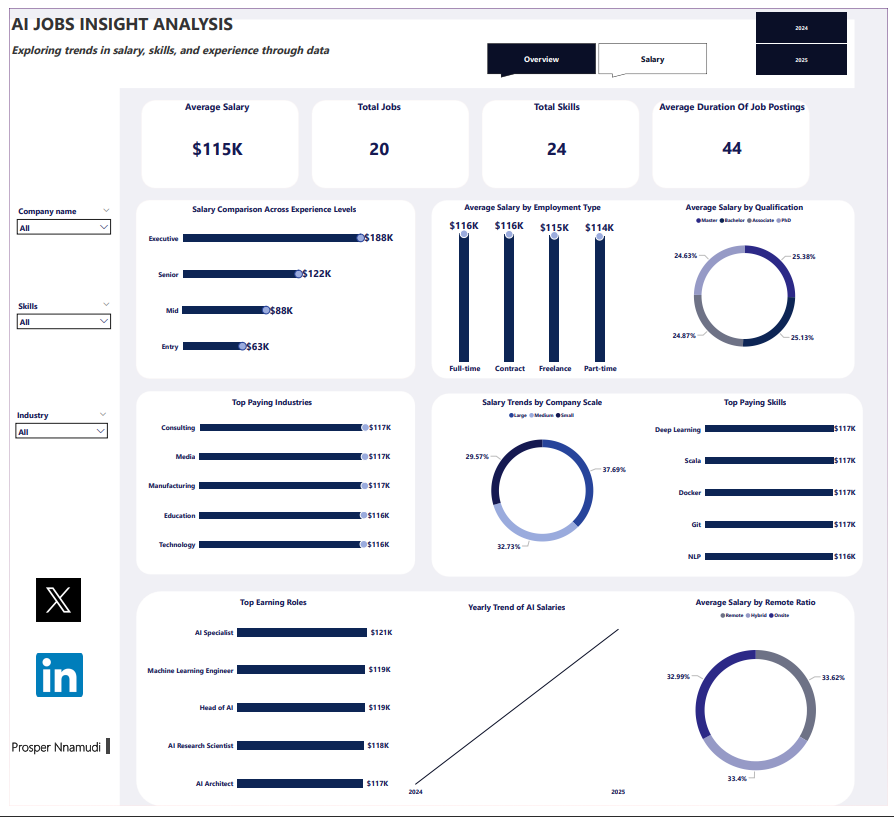

The dashboard page shown, as its layout file describes it:
{"tool":"powerbi","page":{"name":"Salary","canvas":[1920,1743],"ordinal":1},"visuals":[{"type":"clusteredBarChart","title":"Salary Comparison Across Experience Levels","fields":{"Category":["ai_job_dataset.experience_level"],"Y":["Avg(ai_job_dataset.salary_usd)"]},"box":[298,425.5,562.7,360.8],"z":0},{"type":"columnChart","title":"Average Salary by Employment Type","fields":{"Category":["ai_job_dataset.employment_type"],"Y":["Avg(ai_job_dataset.salary_usd)"]},"box":[938.6,421.1,410.5,387.7],"z":1000},{"type":"donutChart","title":"Salary Trends by Company Scale","fields":{"Y":["Avg(ai_job_dataset.salary_usd)"],"Category":["ai_job_dataset.company_size"]},"box":[940,846.7,450,363.3],"z":2000},{"type":"pieChart","title":"Average Salary by Qualification","fields":{"Category":["ai_job_dataset.education_required"],"Y":["Avg(ai_job_dataset.salary_usd)"]},"box":[1390.6,420.8,432.1,364.2],"z":3000},{"type":"clusteredBarChart","title":"Top Paying Industries ","fields":{"Y":["Avg(ai_job_dataset.salary_usd)"],"Category":["ai_job_dataset.industry"]},"box":[298.1,847.2,552.8,364.2],"z":4000},{"type":"barChart","title":"Top Paying Skills","fields":{"Y":["Avg(ai_job_dataset.salary_usd)"],"Category":["ai_job_dataset.required_skills"]},"box":[1405.9,847.1,449,394.1],"z":5000},{"type":"clusteredBarChart","title":"Top Earning Roles","fields":{"Y":["Avg(ai_job_dataset.salary_usd)"],"Category":["ai_job_dataset.job_title"]},"box":[296.3,1285.2,563,459.3],"z":6000},{"type":"lineChart","title":"Yearly Trend of AI Salaries","fields":{"Y":["Avg(ai_job_dataset.salary_usd)"],"Category":["DateTable.Year","DateTable.Month Name","DateTable.Quarter"]},"box":[866.7,1296.3,485.2,437],"z":7000},{"type":"donutChart","title":"Average Salary by Remote Ratio","fields":{"Y":["Avg(ai_job_dataset.salary_usd)"],"Category":["ai_job_dataset.work type"]},"box":[1407.4,1285.2,448.1,448.1],"z":8000},{"type":"pageNavigator","box":[1045,75,480,75],"z":9000},{"type":"slicer","fields":{"Values":["DateTable.Year"]},"box":[1606.9,0,248.3,151.7],"z":10000},{"type":"image","box":[35,1240,145,105],"z":11000},{"type":"image","box":[55,1400,110,115],"z":12000},{"type":"textbox","box":[0,1590,225,45],"z":13000},{"type":"textbox","box":[0,0,960,150],"z":14000},{"type":"slicer","fields":{"Values":["ai_job_dataset.company_name"]},"box":[7.1,425,225,89.3],"z":15000},{"type":"slicer","fields":{"Values":["ai_job_dataset.required_skills"]},"box":[7.1,632.1,225,89.3],"z":16000},{"type":"slicer","fields":{"Values":["ai_job_dataset.industry"]},"box":[3.6,871.4,221.4,89.3],"z":17000},{"type":"card","title":"Average Salary","fields":{"Values":["Avg(ai_job_dataset.salary_usd)"]},"box":[296.9,200,315.6,181.2],"z":18000},{"type":"card","title":"Total Jobs","fields":{"Values":["measures (2).total job titles"]},"box":[659.4,200,300,181.2],"z":19000},{"type":"card","title":"Total Skills","fields":{"Values":["measures (2).total job skills"]},"box":[1046.9,200,300,181.2],"z":20000},{"type":"card","title":"Average Duration Of Job Postings","fields":{"Values":["Avg(ai_job_dataset.duration w)"]},"box":[1406.7,200,346.7,180],"z":21000}]}

Visuals, with their boxes in screenshot pixels (x1, y1, x2, y2), scaled from the page's 1920x1743 canvas onto the 894x817 screenshot:
"Salary Comparison Across Experience Levels" clusteredBarChart: locate(139, 199, 401, 369)
"Average Salary by Employment Type" columnChart: locate(437, 197, 628, 379)
"Salary Trends by Company Scale" donutChart: locate(438, 397, 647, 567)
"Average Salary by Qualification" pieChart: locate(647, 197, 849, 368)
"Top Paying Industries " clusteredBarChart: locate(139, 397, 396, 568)
"Top Paying Skills" barChart: locate(655, 397, 864, 582)
"Top Earning Roles" clusteredBarChart: locate(138, 602, 400, 816)
"Yearly Trend of AI Salaries" lineChart: locate(404, 608, 629, 812)
"Average Salary by Remote Ratio" donutChart: locate(655, 602, 864, 812)
pageNavigator: locate(487, 35, 710, 70)
slicer - DateTable.Year: locate(748, 0, 864, 71)
image: locate(16, 581, 84, 630)
image: locate(26, 656, 77, 710)
textbox: locate(0, 745, 105, 766)
textbox: locate(0, 0, 447, 70)
slicer - ai_job_dataset.company_name: locate(3, 199, 108, 241)
slicer - ai_job_dataset.required_skills: locate(3, 296, 108, 338)
slicer - ai_job_dataset.industry: locate(2, 408, 105, 450)
"Average Salary" card: locate(138, 94, 285, 179)
"Total Jobs" card: locate(307, 94, 447, 179)
"Total Skills" card: locate(487, 94, 627, 179)
"Average Duration Of Job Postings" card: locate(655, 94, 816, 178)
